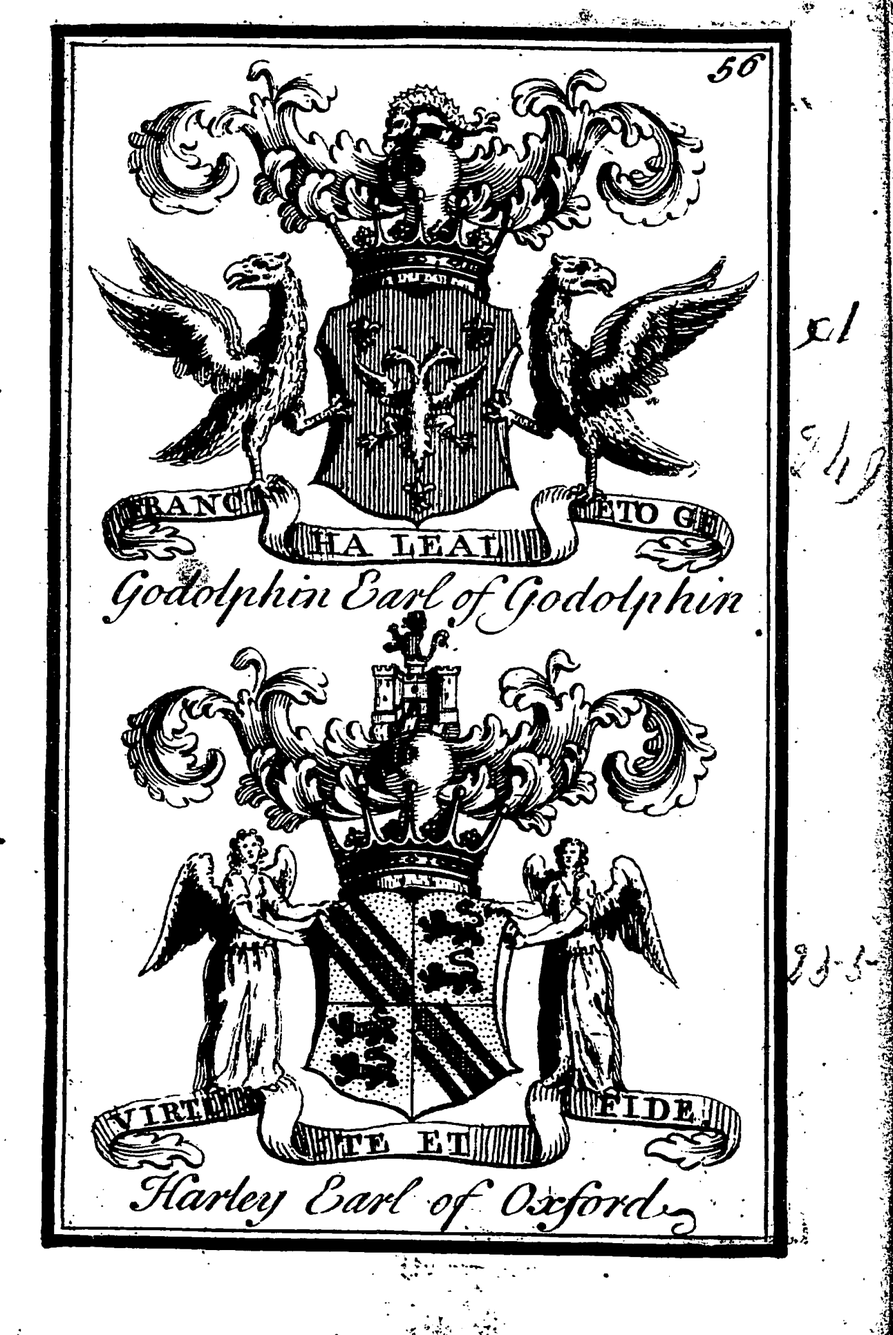coat_of_arms: (92, 628, 769, 1233), (83, 53, 756, 638)
